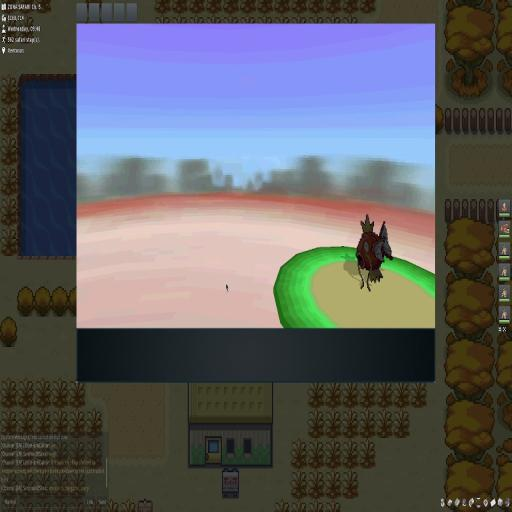MAGIKARP: (355, 214, 393, 292)
